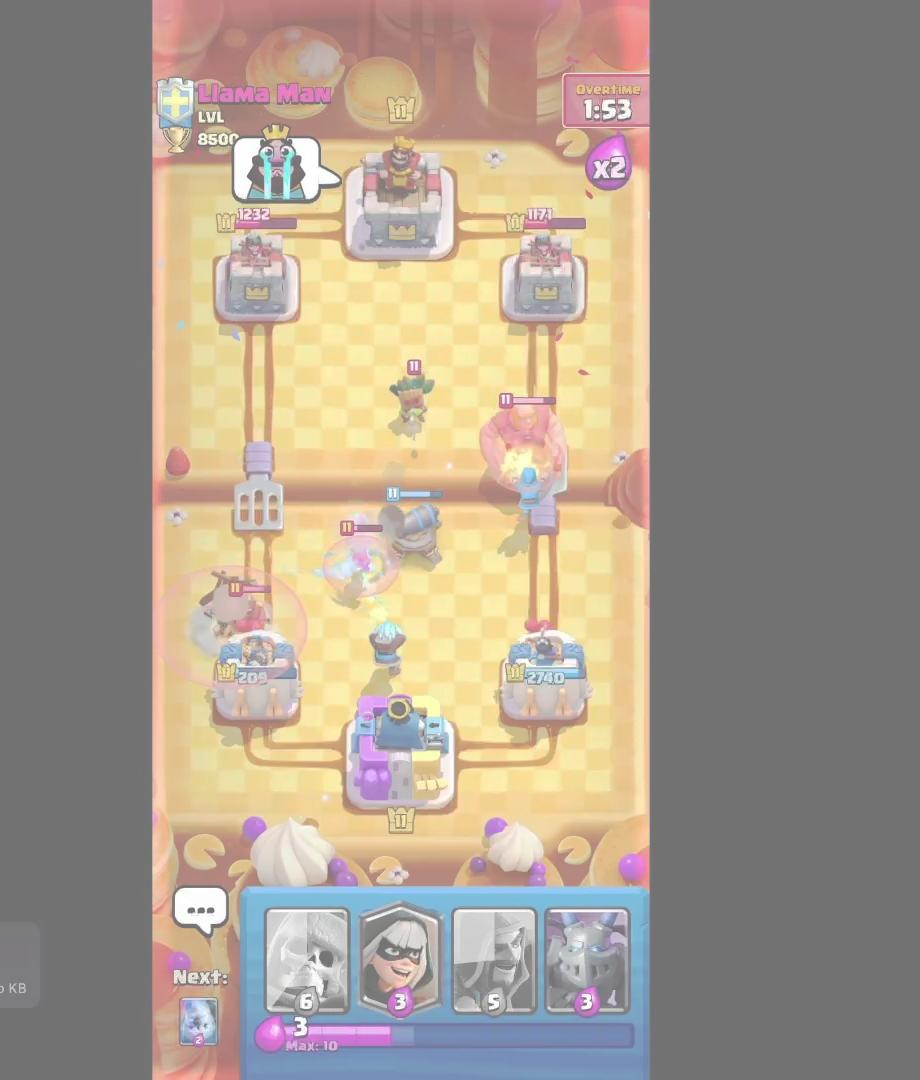Dart Goblin: (386, 356, 441, 435)
Giant: (478, 394, 587, 479)
Hog Rider: (221, 587, 283, 647)
Valkyrie: (322, 517, 410, 594)
